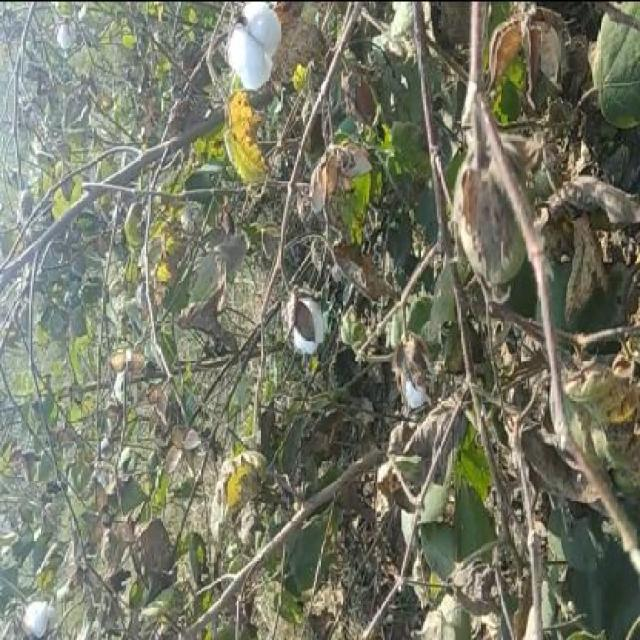cotton_ready: (225, 10, 290, 142), (284, 269, 336, 366)
